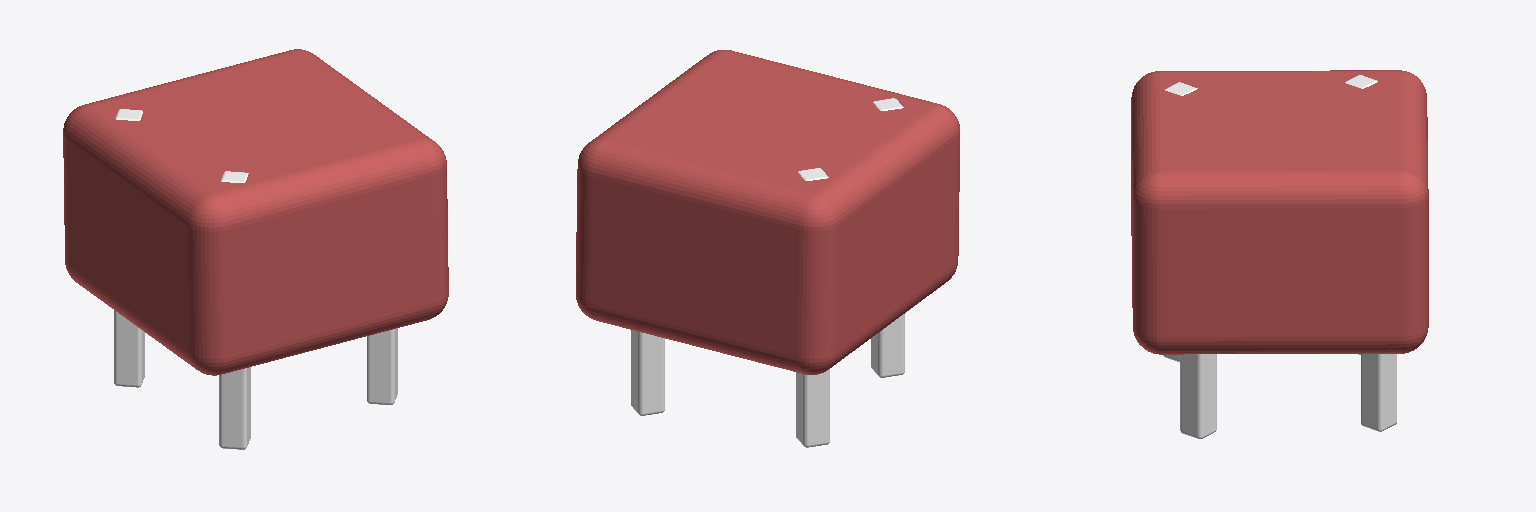
3 renders of one model, left to right at view 1: azimuth 30°, elevation 25°; view 2: azimuth 150°, elevation 25°; view 3: azimuth 270°, elevation 25°, orthographic.
Visible parts, largest first — view 1: 立方体.7, 立方体.8.2, 立方体.8.1, 立方体.8.3; view 2: 立方体.7, 立方体.8.1, 立方体.8.4, 立方体.8.2; view 3: 立方体.7, 立方体.8.3, 立方体.8.4.
Part boxes in pixels (x1,y1,x2,y2): 立方体.7: (63, 49, 448, 375); 立方体.8.2: (219, 171, 250, 449); 立方体.8.1: (114, 109, 144, 387); 立方体.8.3: (367, 328, 397, 404); 立方体.7: (576, 50, 959, 374); 立方体.8.1: (796, 168, 829, 447); 立方体.8.4: (631, 330, 664, 415); 立方体.8.2: (871, 98, 904, 377); 立方体.7: (1131, 70, 1428, 354); 立方体.8.3: (1180, 354, 1216, 438); 立方体.8.4: (1361, 354, 1396, 431).
Size of the model in its own units: 178 by 177 by 176.